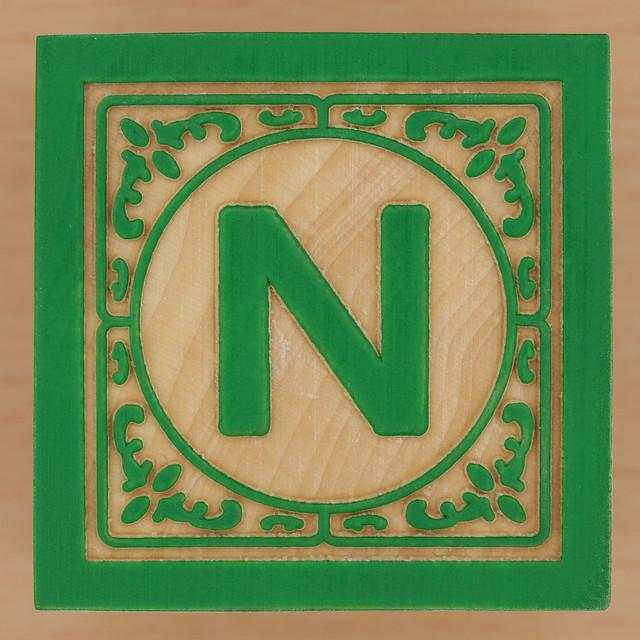N: (205, 189, 442, 456)
